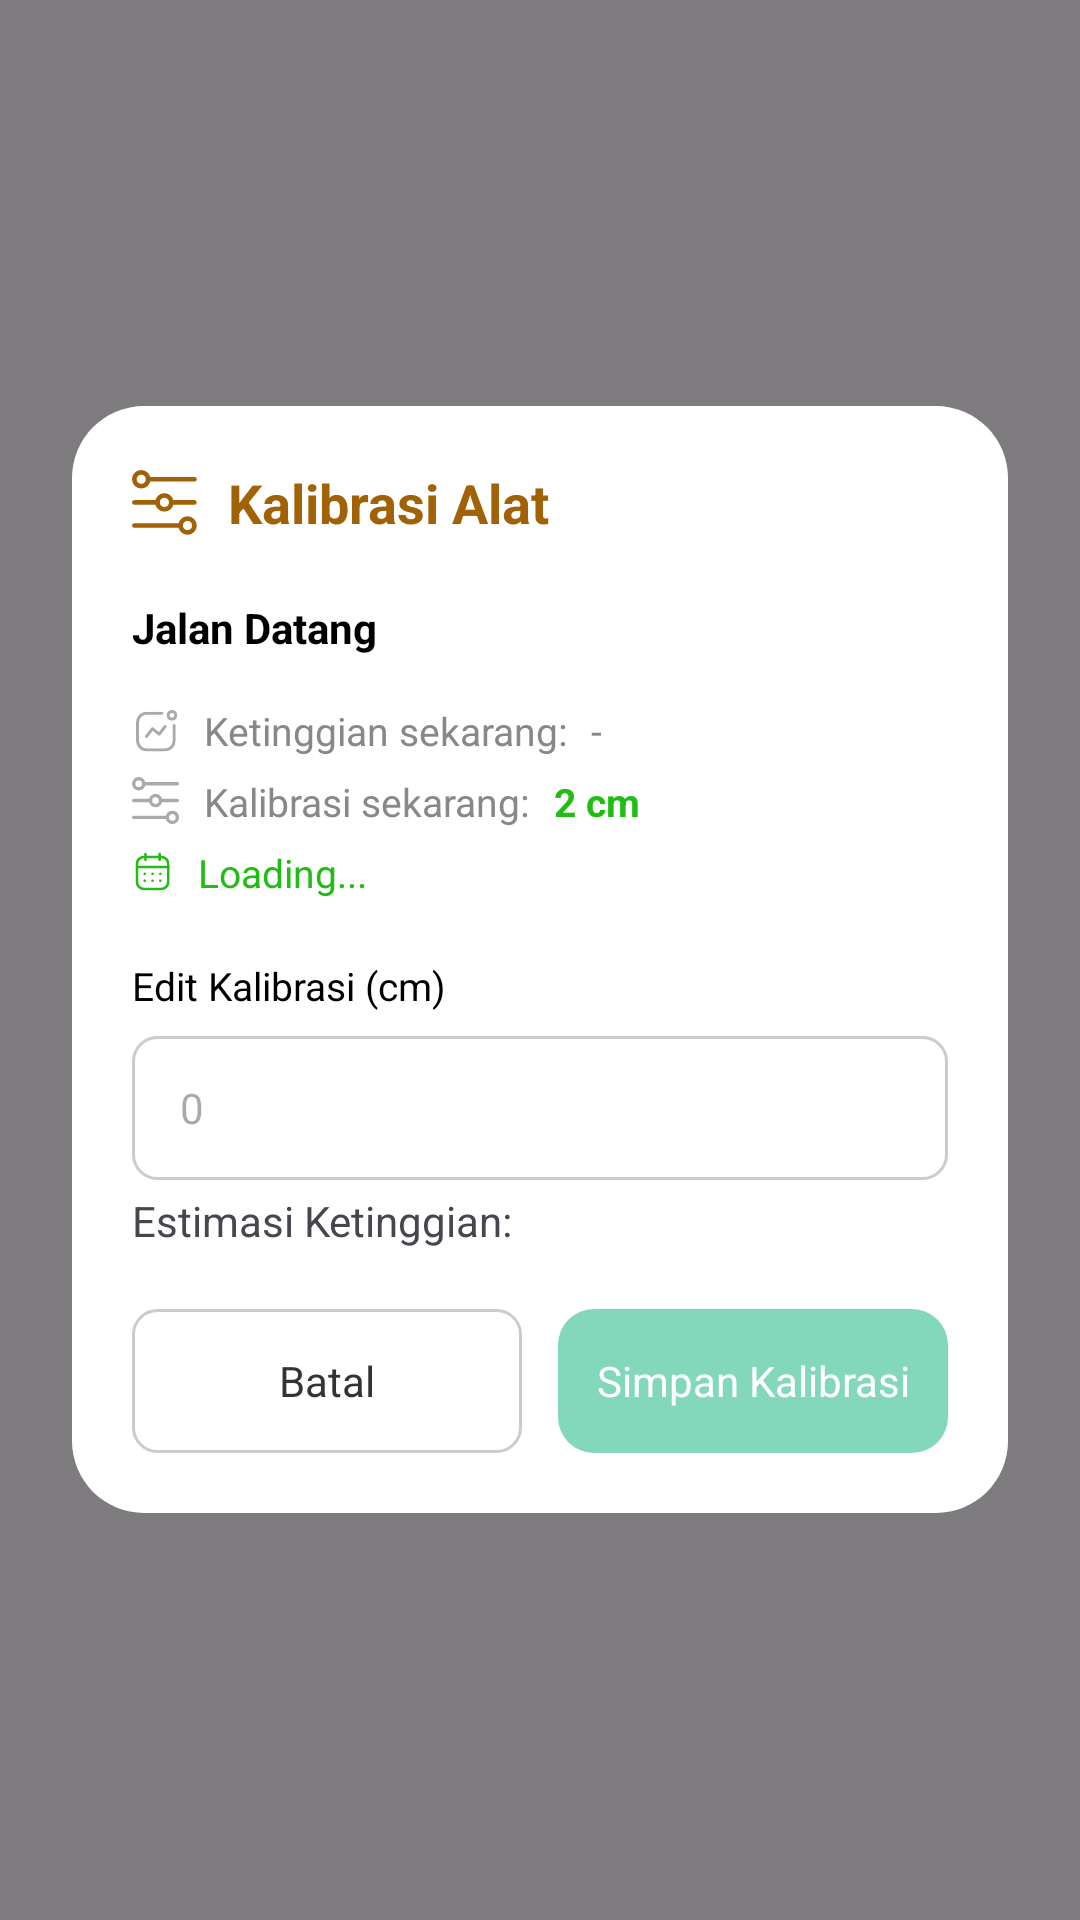

Where to tap for icons on this 1080×1920 app screen, as point (x, y):
activity: point (156, 730)
calendar: point (152, 871)
